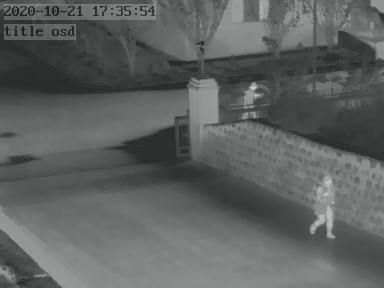person: (312, 175, 334, 237), (240, 81, 258, 120)
